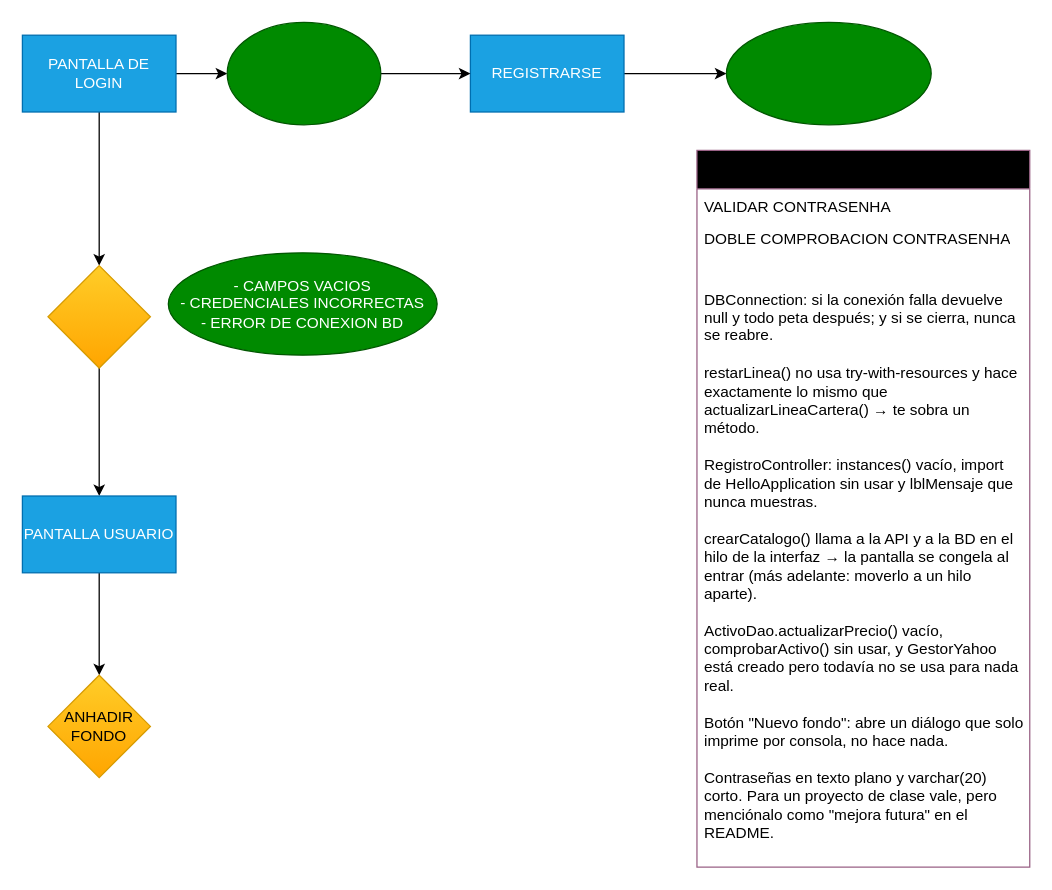
Some shapes in this 1052 by 890 pixel diagram are drawn without their labels. Each missing label, with the box of its shape:
- CAMPOS VACIOS - YA REGISTRADO - ERROR CONEXION BD: (725, 21, 931, 125)
- NO TIENE CUENTA: (226, 21, 381, 125)
LOGIN: (47, 264, 150, 368)
